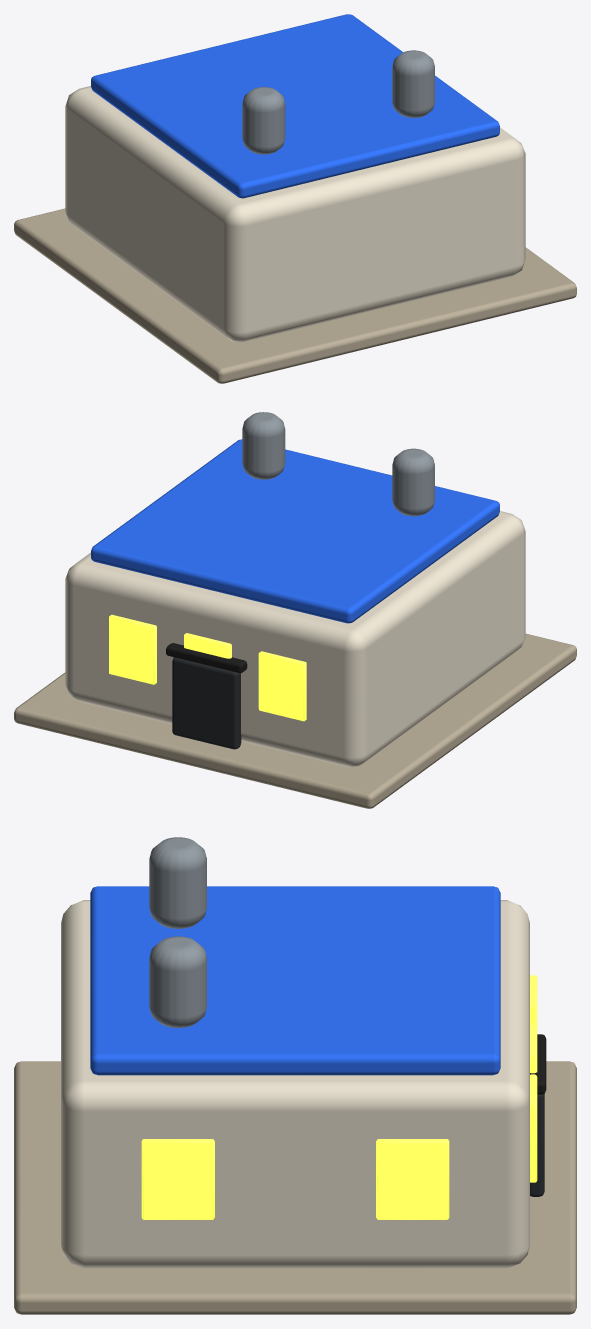
The model's file is electronics_plant.glb.
3 renders of one model, top to bottom at view 1: azimuth 30°, elevation 25°; view 2: azimuth 150°, elevation 25°; view 3: azimuth 270°, elevation 25°, orthographic. The views are drawn at different scales.
Parts seen in each view (by area): view 1: stage_2__M_CreamPlastic, stage_3__M_Team, stage_0__M_SugarPad, stage_3__M_SpringSteel; view 2: stage_2__M_CreamPlastic, stage_3__M_Team, stage_0__M_SugarPad, stage_2__M_E_Acid, stage_1__M_Dark, stage_3__M_SpringSteel, stage_2__M_Licorice; view 3: stage_2__M_CreamPlastic, stage_3__M_Team, stage_0__M_SugarPad, stage_2__M_E_Acid, stage_3__M_SpringSteel, stage_1__M_Dark, stage_2__M_Licorice.
Part boxes in pixels (x1,y1,x2,y2): stage_2__M_CreamPlastic: [65, 86, 525, 342]; stage_3__M_Team: [91, 14, 499, 198]; stage_0__M_SugarPad: [14, 208, 576, 383]; stage_3__M_SpringSteel: [242, 50, 434, 154]; stage_2__M_CreamPlastic: [65, 511, 525, 767]; stage_3__M_Team: [91, 439, 499, 623]; stage_0__M_SugarPad: [14, 633, 576, 808]; stage_2__M_E_Acid: [109, 614, 306, 721]; stage_1__M_Dark: [172, 657, 241, 749]; stage_3__M_SpringSteel: [242, 412, 434, 516]; stage_2__M_Licorice: [166, 643, 247, 672]; stage_2__M_CreamPlastic: [61, 900, 529, 1268]; stage_3__M_Team: [90, 886, 500, 1075]; stage_0__M_SugarPad: [14, 1061, 576, 1314]; stage_2__M_E_Acid: [141, 975, 537, 1219]; stage_3__M_SpringSteel: [149, 837, 206, 1027]; stage_1__M_Dark: [530, 1094, 544, 1196]; stage_2__M_Licorice: [530, 1034, 546, 1094].
Size of the model in its own units: 1.92 by 1.15 by 1.92.
